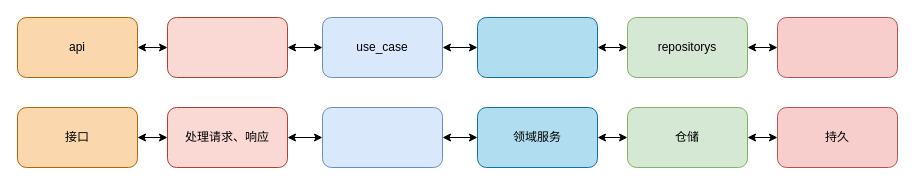
Some shapes in this 915 by 185 pixel diagram are drawn without their labels. The shapes that lost their labels are listed below. From the top down, each one's box as (x1, y1, x2, y2) in pixels, then its label:
(166, 16, 288, 78): handler
(476, 16, 598, 78): service
(776, 16, 898, 78): persistence
(322, 106, 442, 168): 编排用例
